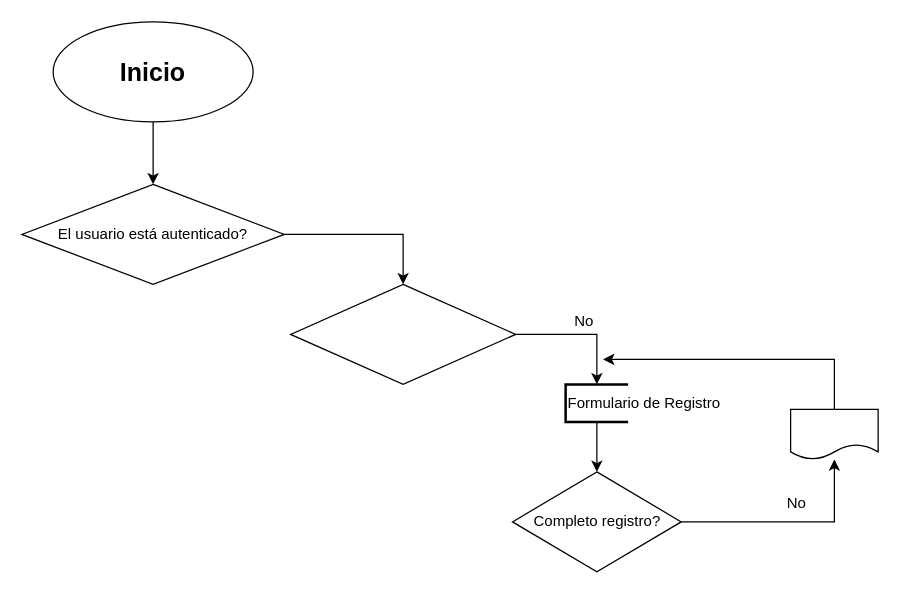
Image size: 900x594. Some labels were removed from this diagram. The shapes that lost their labels are listed below. From the top down, each one's centre as x and y in pixels, then its label:
At point 402,333: "El usuario está registrado?".
At point 833,433: "Mensaje de Error".
